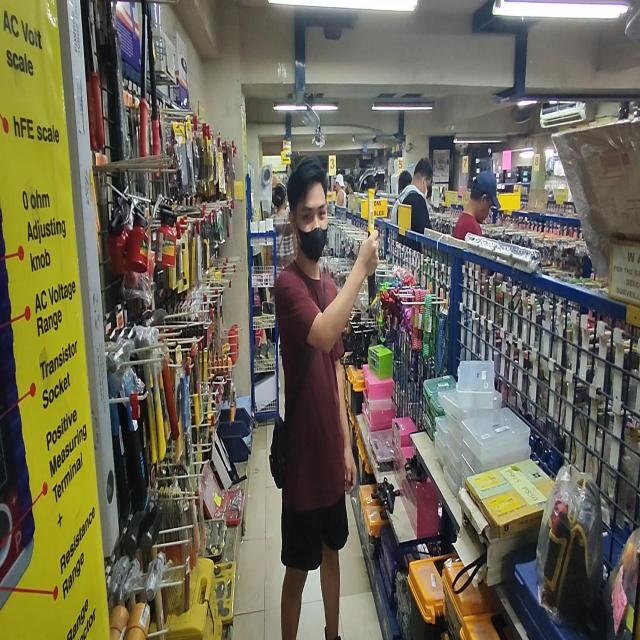hammer: (359, 167, 385, 307)
